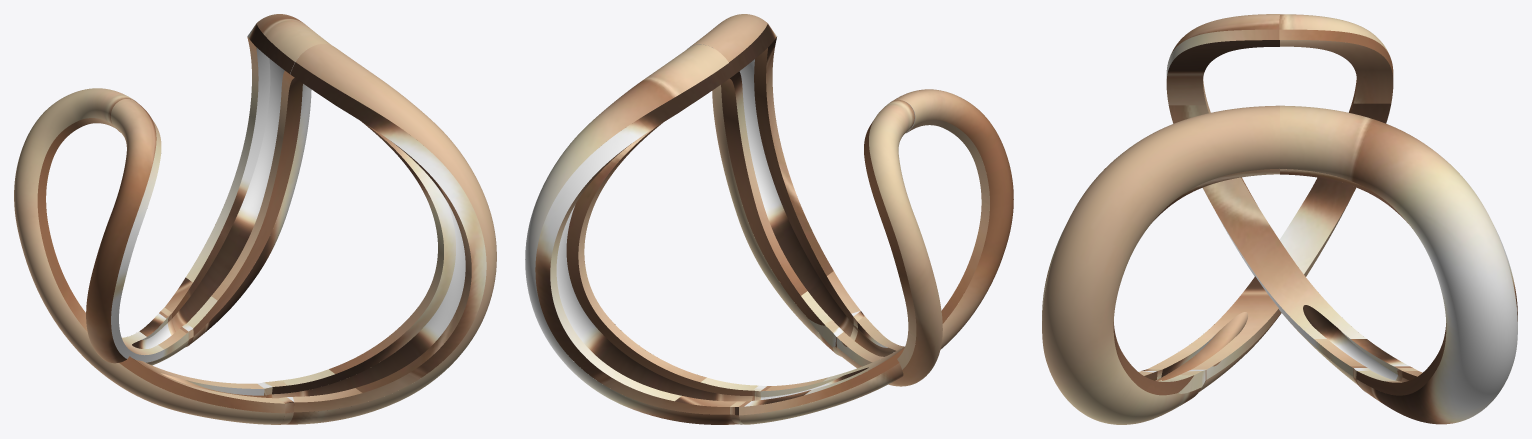
The model's file is infinito liso.fbx.
3 views of the same model, side by side, from view 1: azimuth 30°, elevation 25°; view 2: azimuth 150°, elevation 25°; view 3: azimuth 270°, elevation 25° (orthographic). The views are drawn at different scales.
Visible parts, largest first — view 1: Objeto_76, Objeto_72; view 2: Objeto_76, Objeto_72; view 3: Objeto_76, Objeto_72.
Boxes of the visible parts, bbox=[...] form: Objeto_76: bbox=[164, 14, 496, 424]; Objeto_72: bbox=[14, 88, 285, 424]; Objeto_76: bbox=[525, 14, 860, 424]; Objeto_72: bbox=[739, 89, 1013, 424]; Objeto_76: bbox=[1042, 105, 1517, 424]; Objeto_72: bbox=[1147, 14, 1412, 391].
Size of the model in its own units: 22.75 by 25.65 by 20.31.
2 materials, 1 textured.
